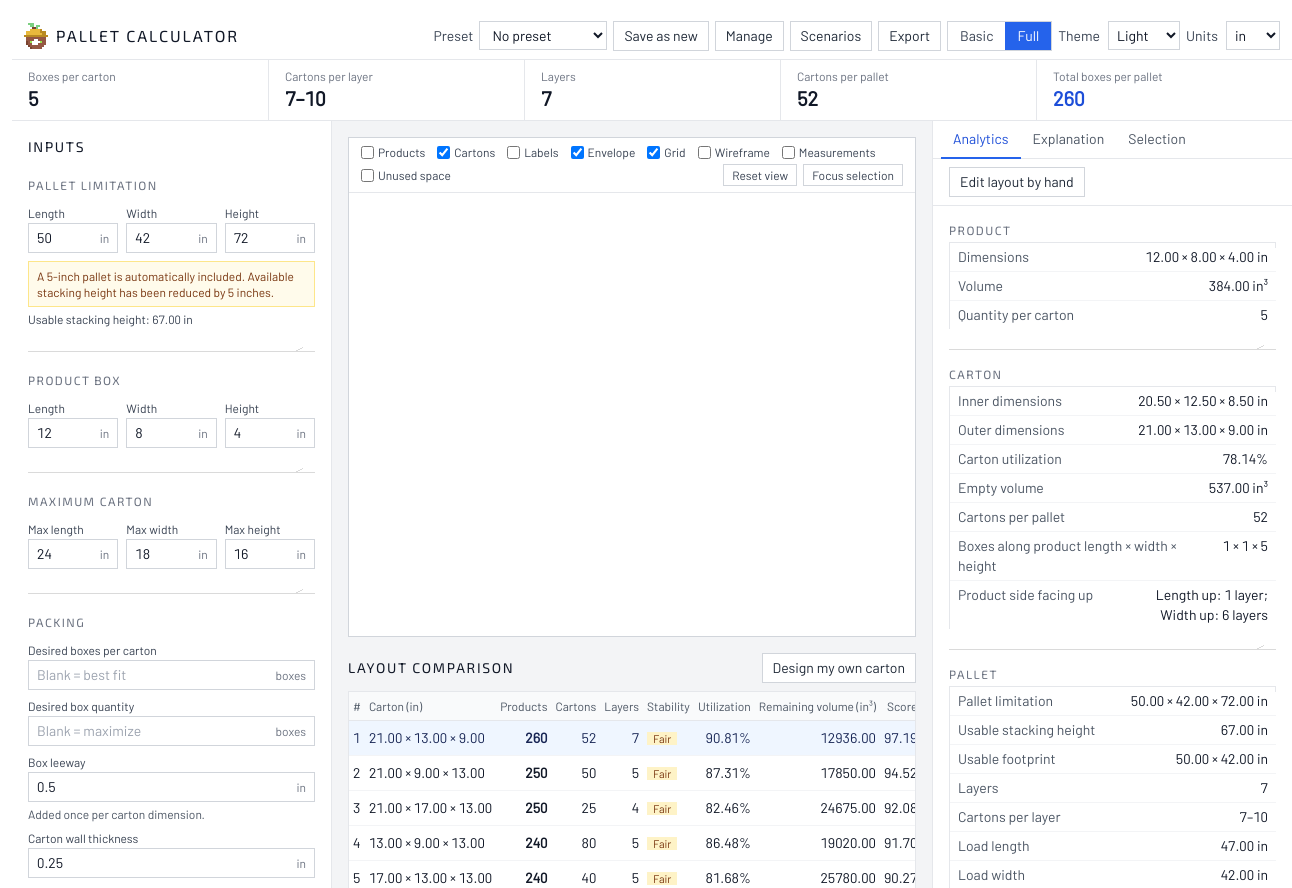
Test: ExportMenu › disables PNG with an explanation when the 3D view is unavailable
Click the button "Export" at (910, 36), box [878,20,941,50]
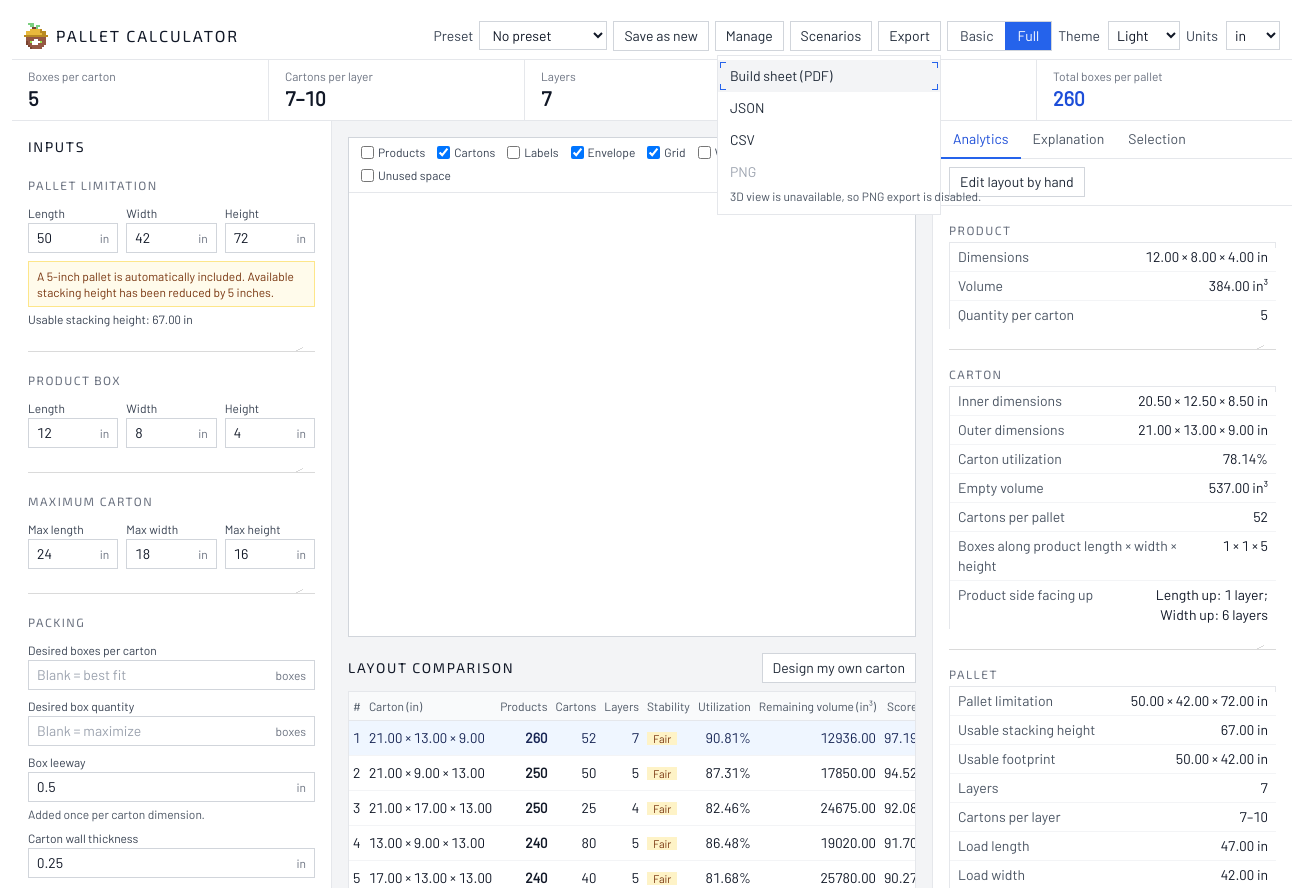
expect the menu item "PNG" is disabled: met, box [718,156,940,188]
expect the menu item "JSON" is enabled: met, box [718,92,940,124]
expect the text "3D view is unavailable, so PNG export is disabled." is shown: met, box [718,188,940,210]
